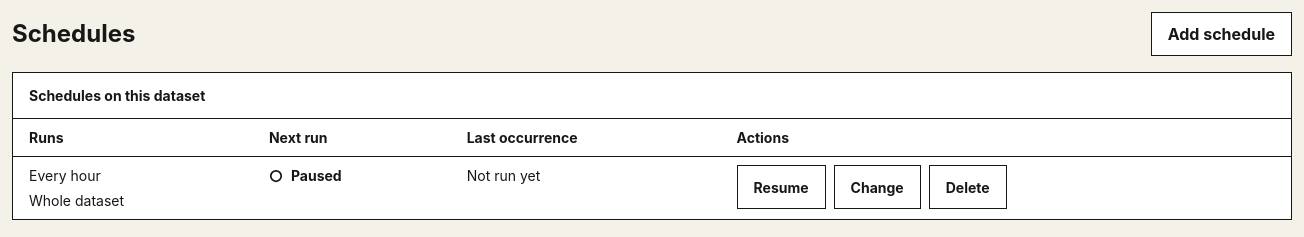
Scenario: Dataset schedules › resumes a paused schedule
This screenshot has width=1304, height=237.
Expected: the text "Paused" is shown, [291, 165, 342, 186]
Click the button "Resume".
click(781, 187)  # box [736, 165, 826, 209]
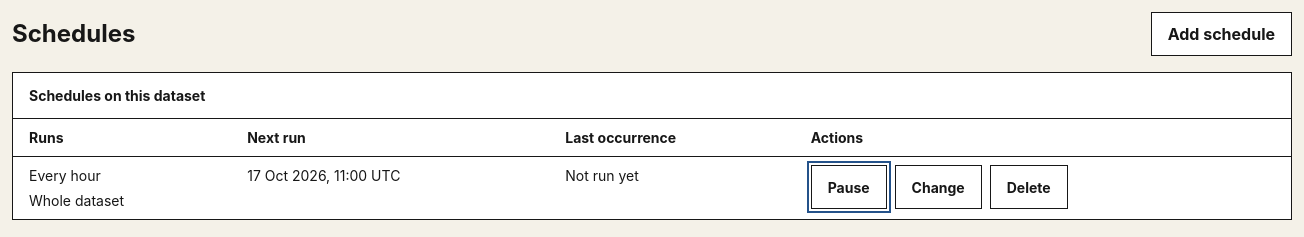
Now the button "Pause" is shown, box [811, 165, 887, 209]
